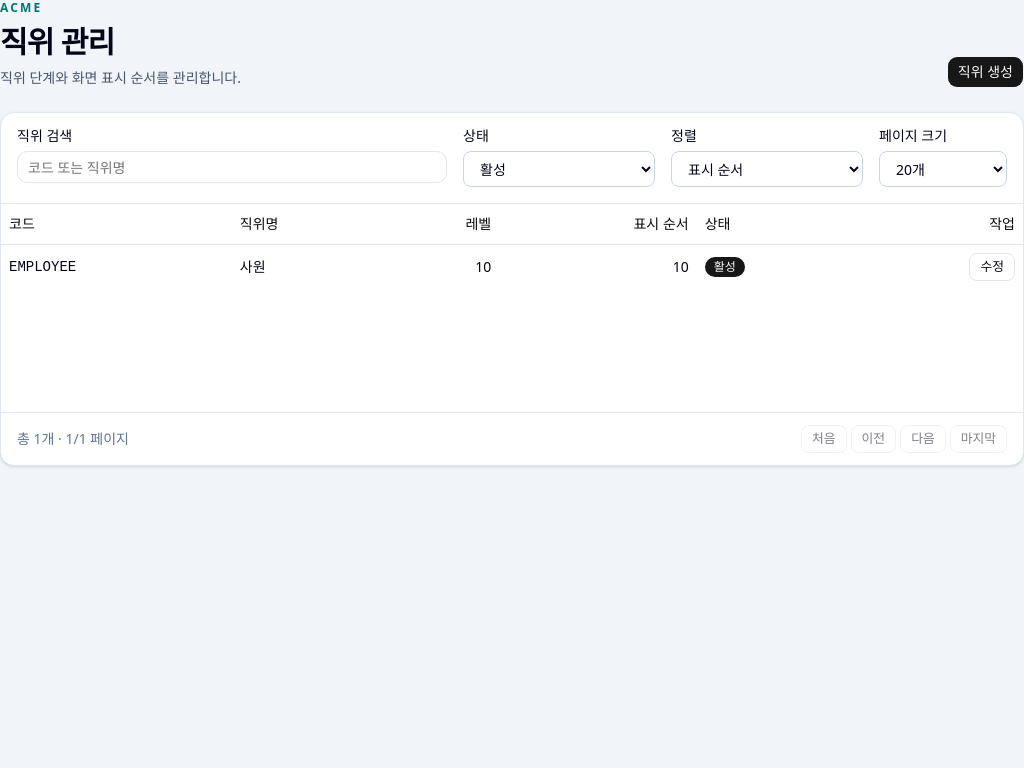
Test: removes a deactivated position by re-fetching the current active filter
Expected: the cell "EMPLOYEE" is shown, 1,244 -> 232,288
Click the button with aria-label "EMPLOYEE 수정": (992, 266) 970,252 -> 1015,280
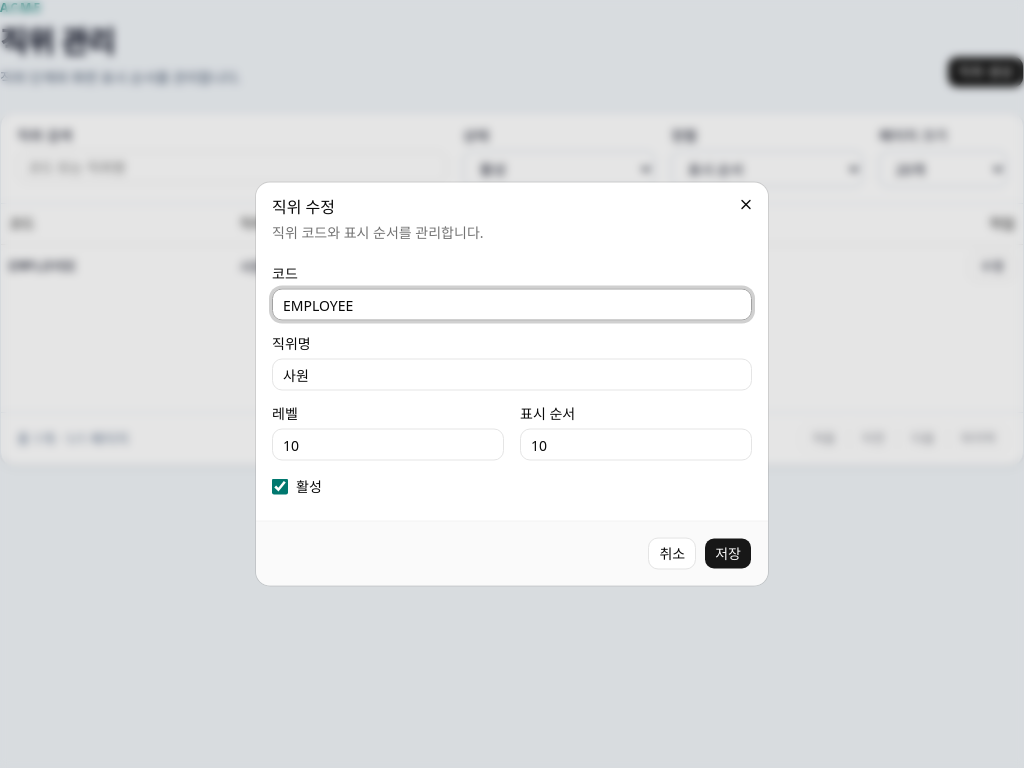
Click the checkbox labelled "활성": (280, 486) 272,478 -> 288,494
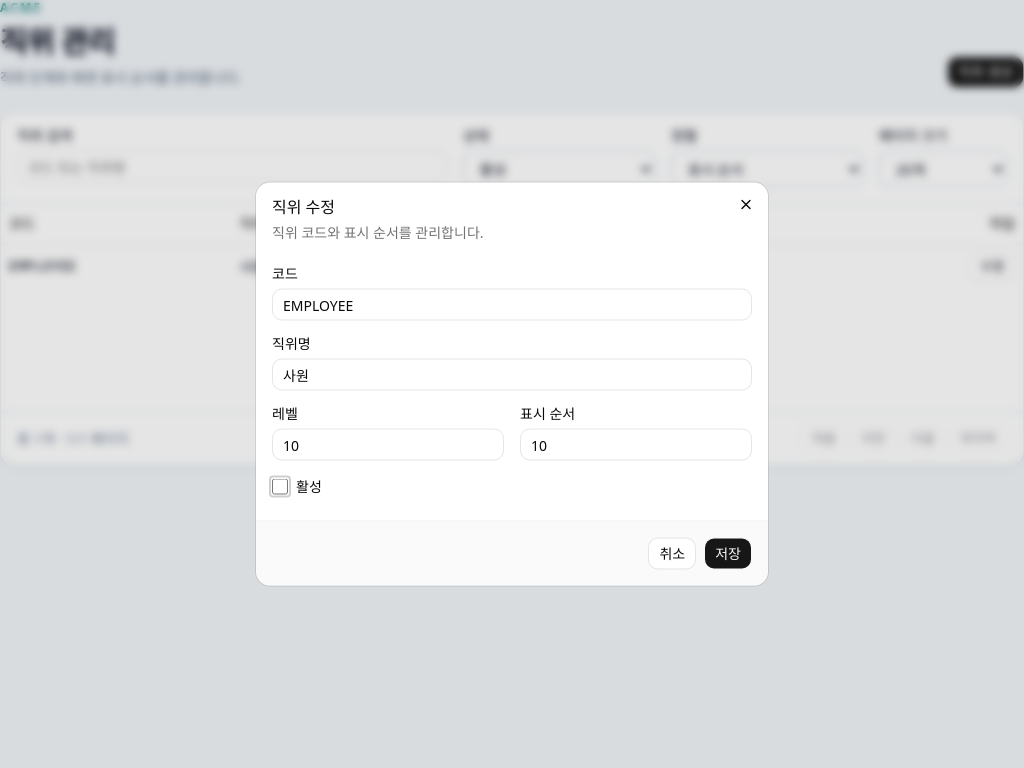
Click the button "저장": (728, 554) 704,538 -> 752,570
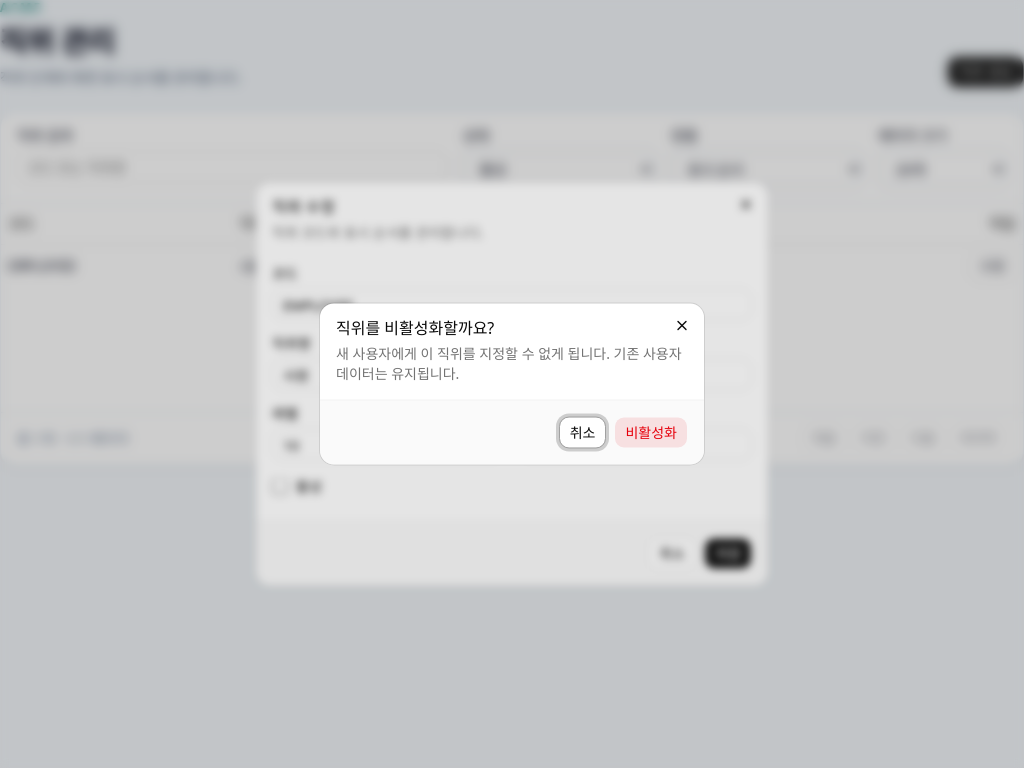
Click the button "비활성화": (651, 432) 614,416 -> 688,448
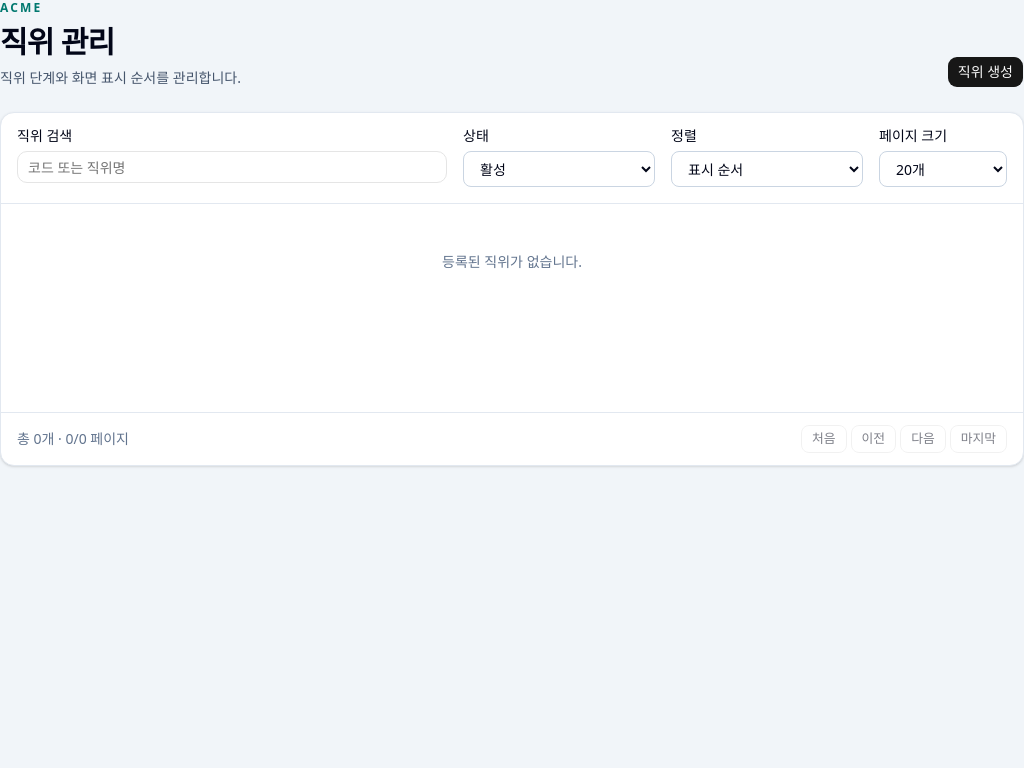
Expected: the text "등록된 직위가 없습니다." is shown, 442,252 -> 582,271
Expected: the cell "EMPLOYEE" is gone
